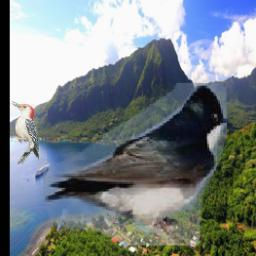Swallow: (44, 84, 228, 246)
Woodpecker: (10, 101, 39, 165)
